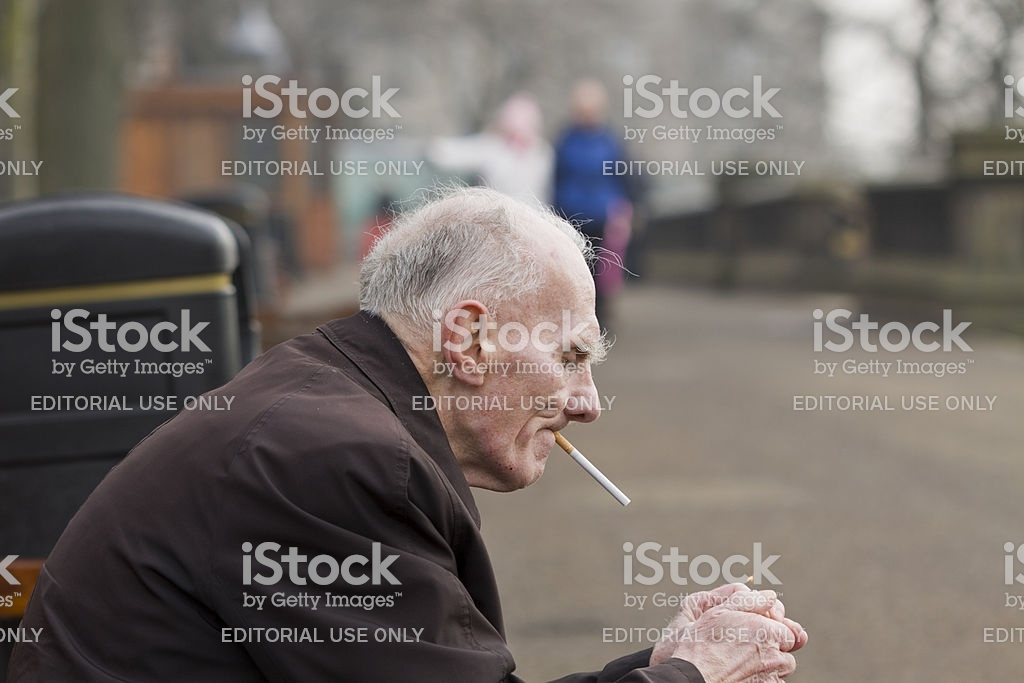sigaretta: (543, 423, 633, 507)
